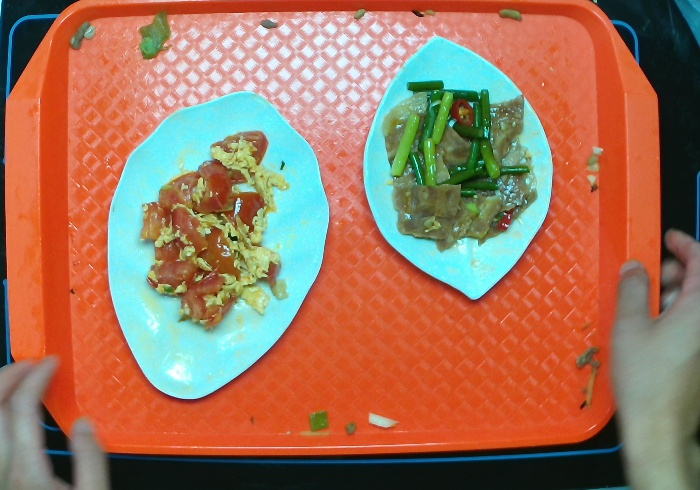RJxy-Bai_Ye_Pan: (93, 85, 332, 402)
RJxy-Da_Du_Pan: (354, 26, 558, 304)
